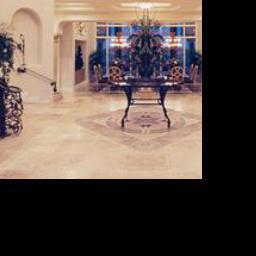Escaleras: (0, 0, 17, 169)
